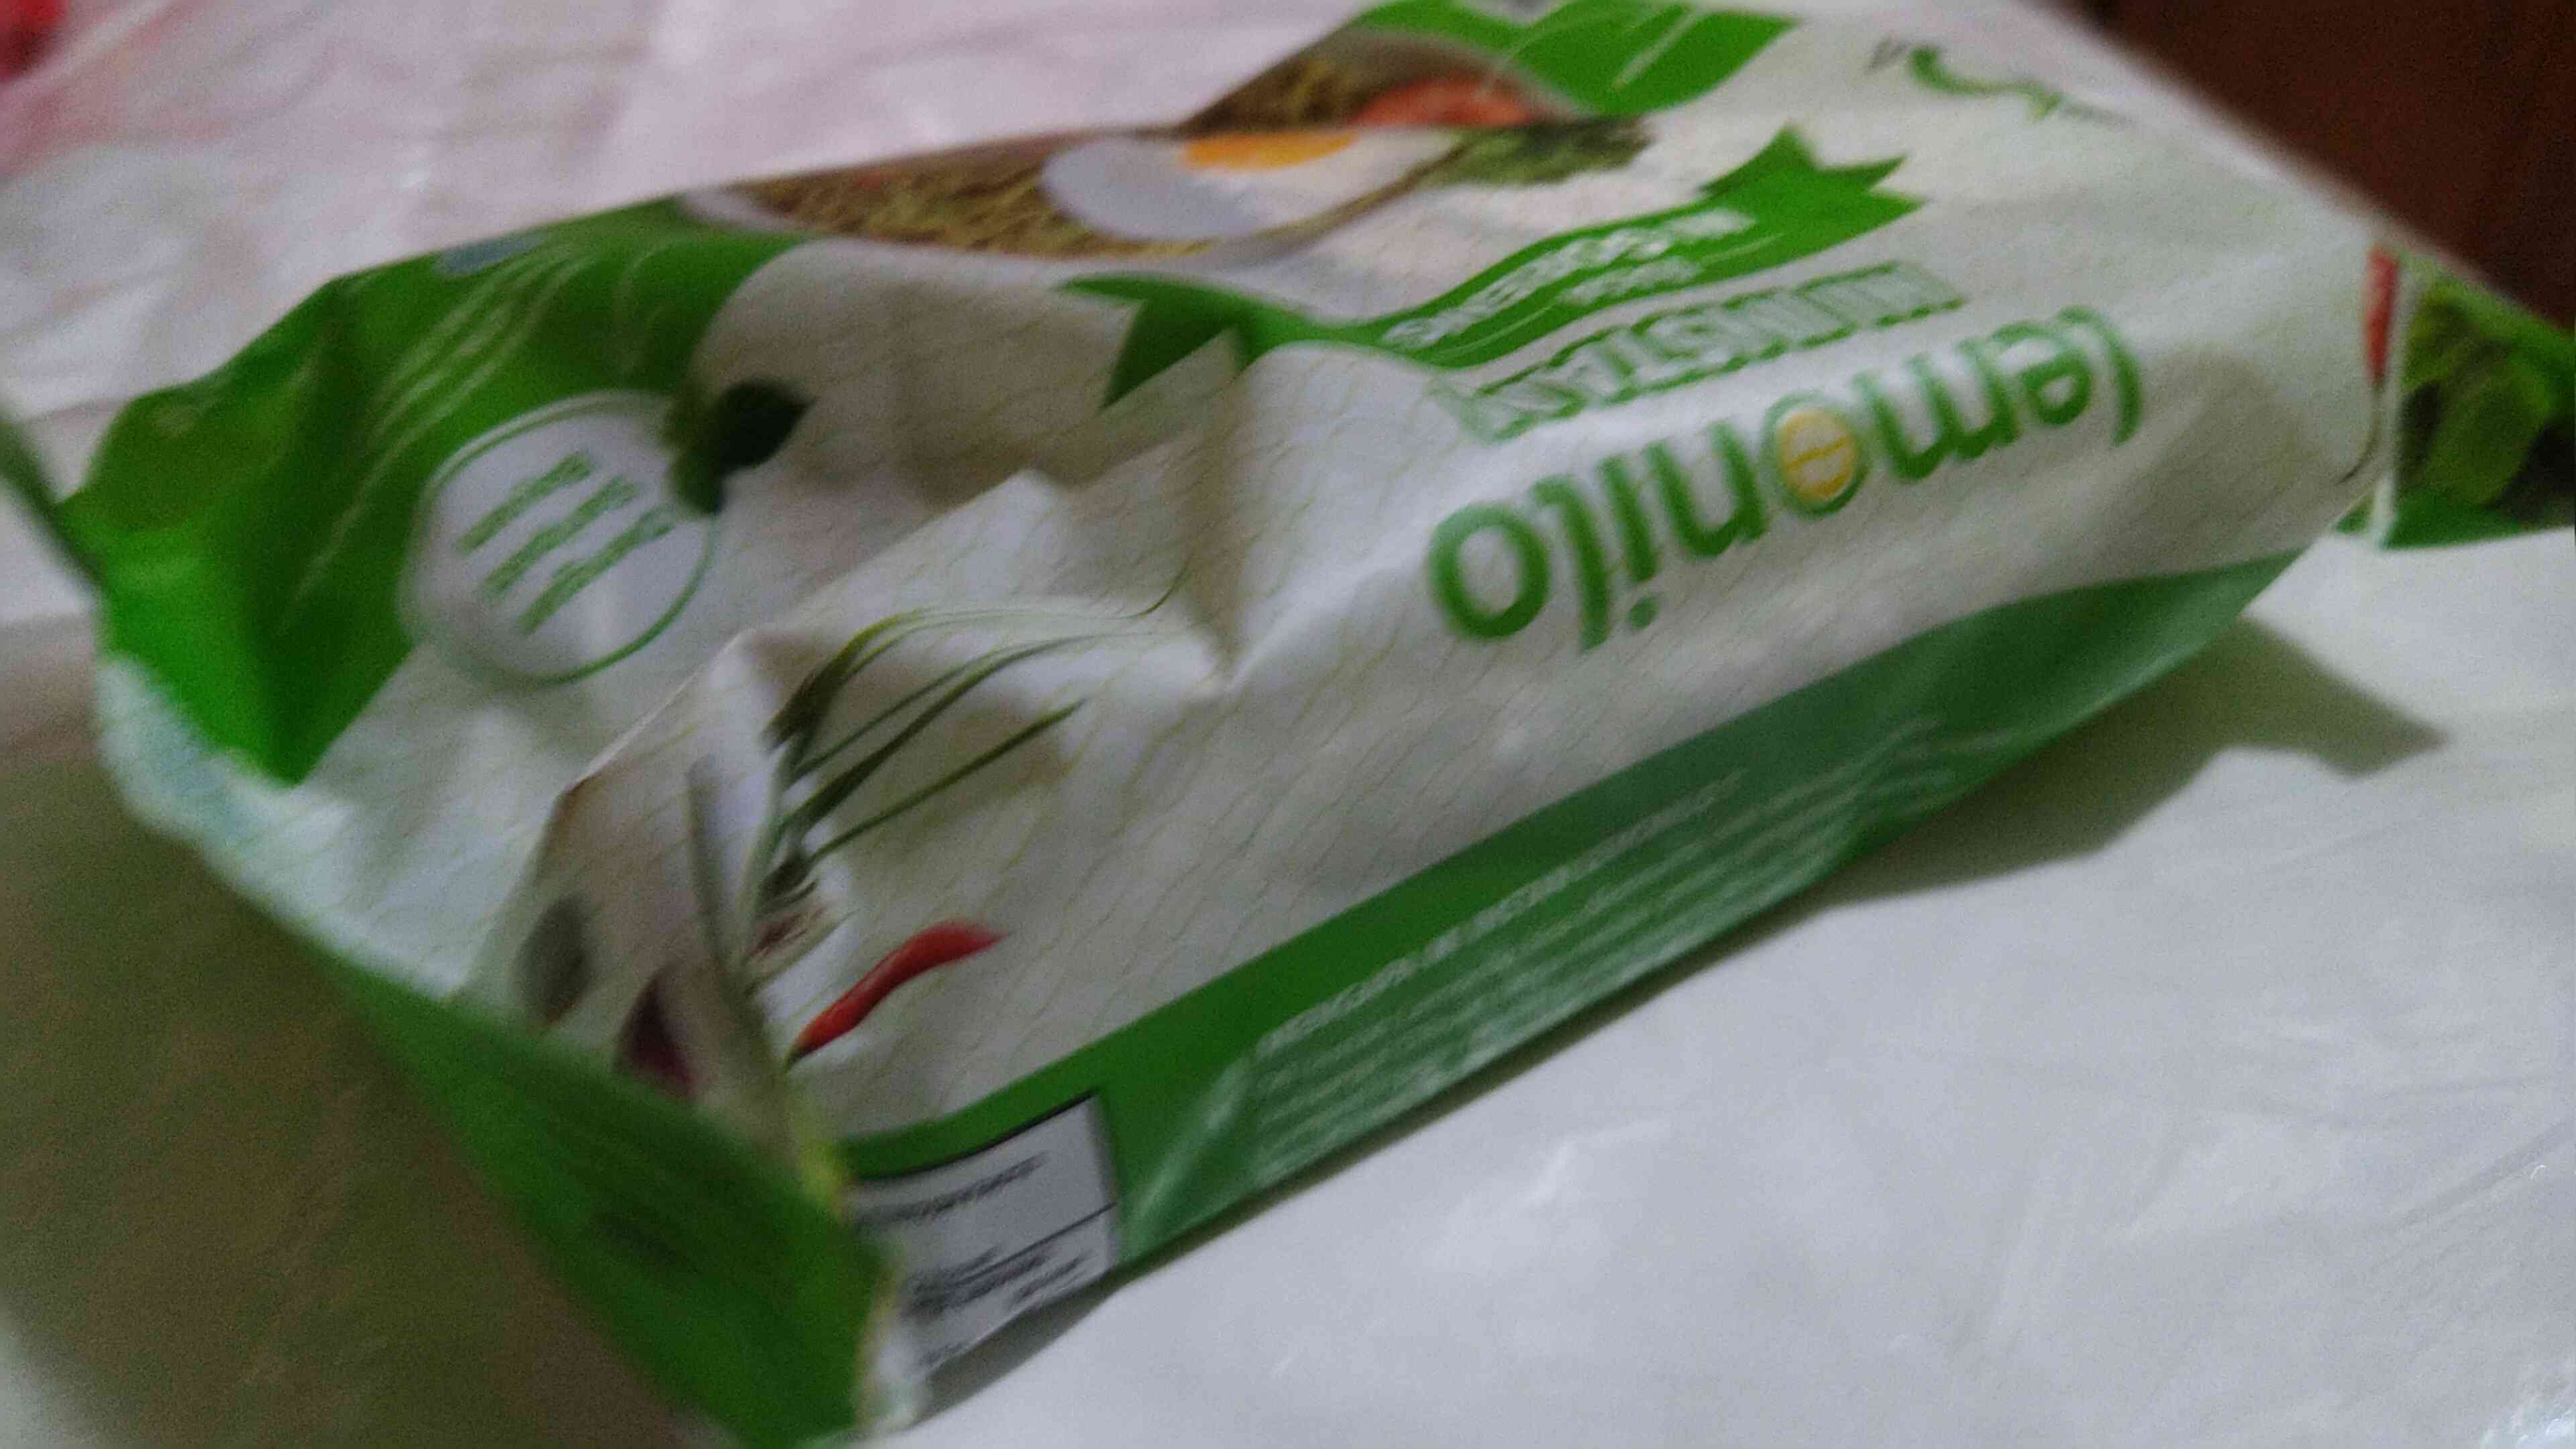lemonilo: (69, 34, 2450, 1449)
